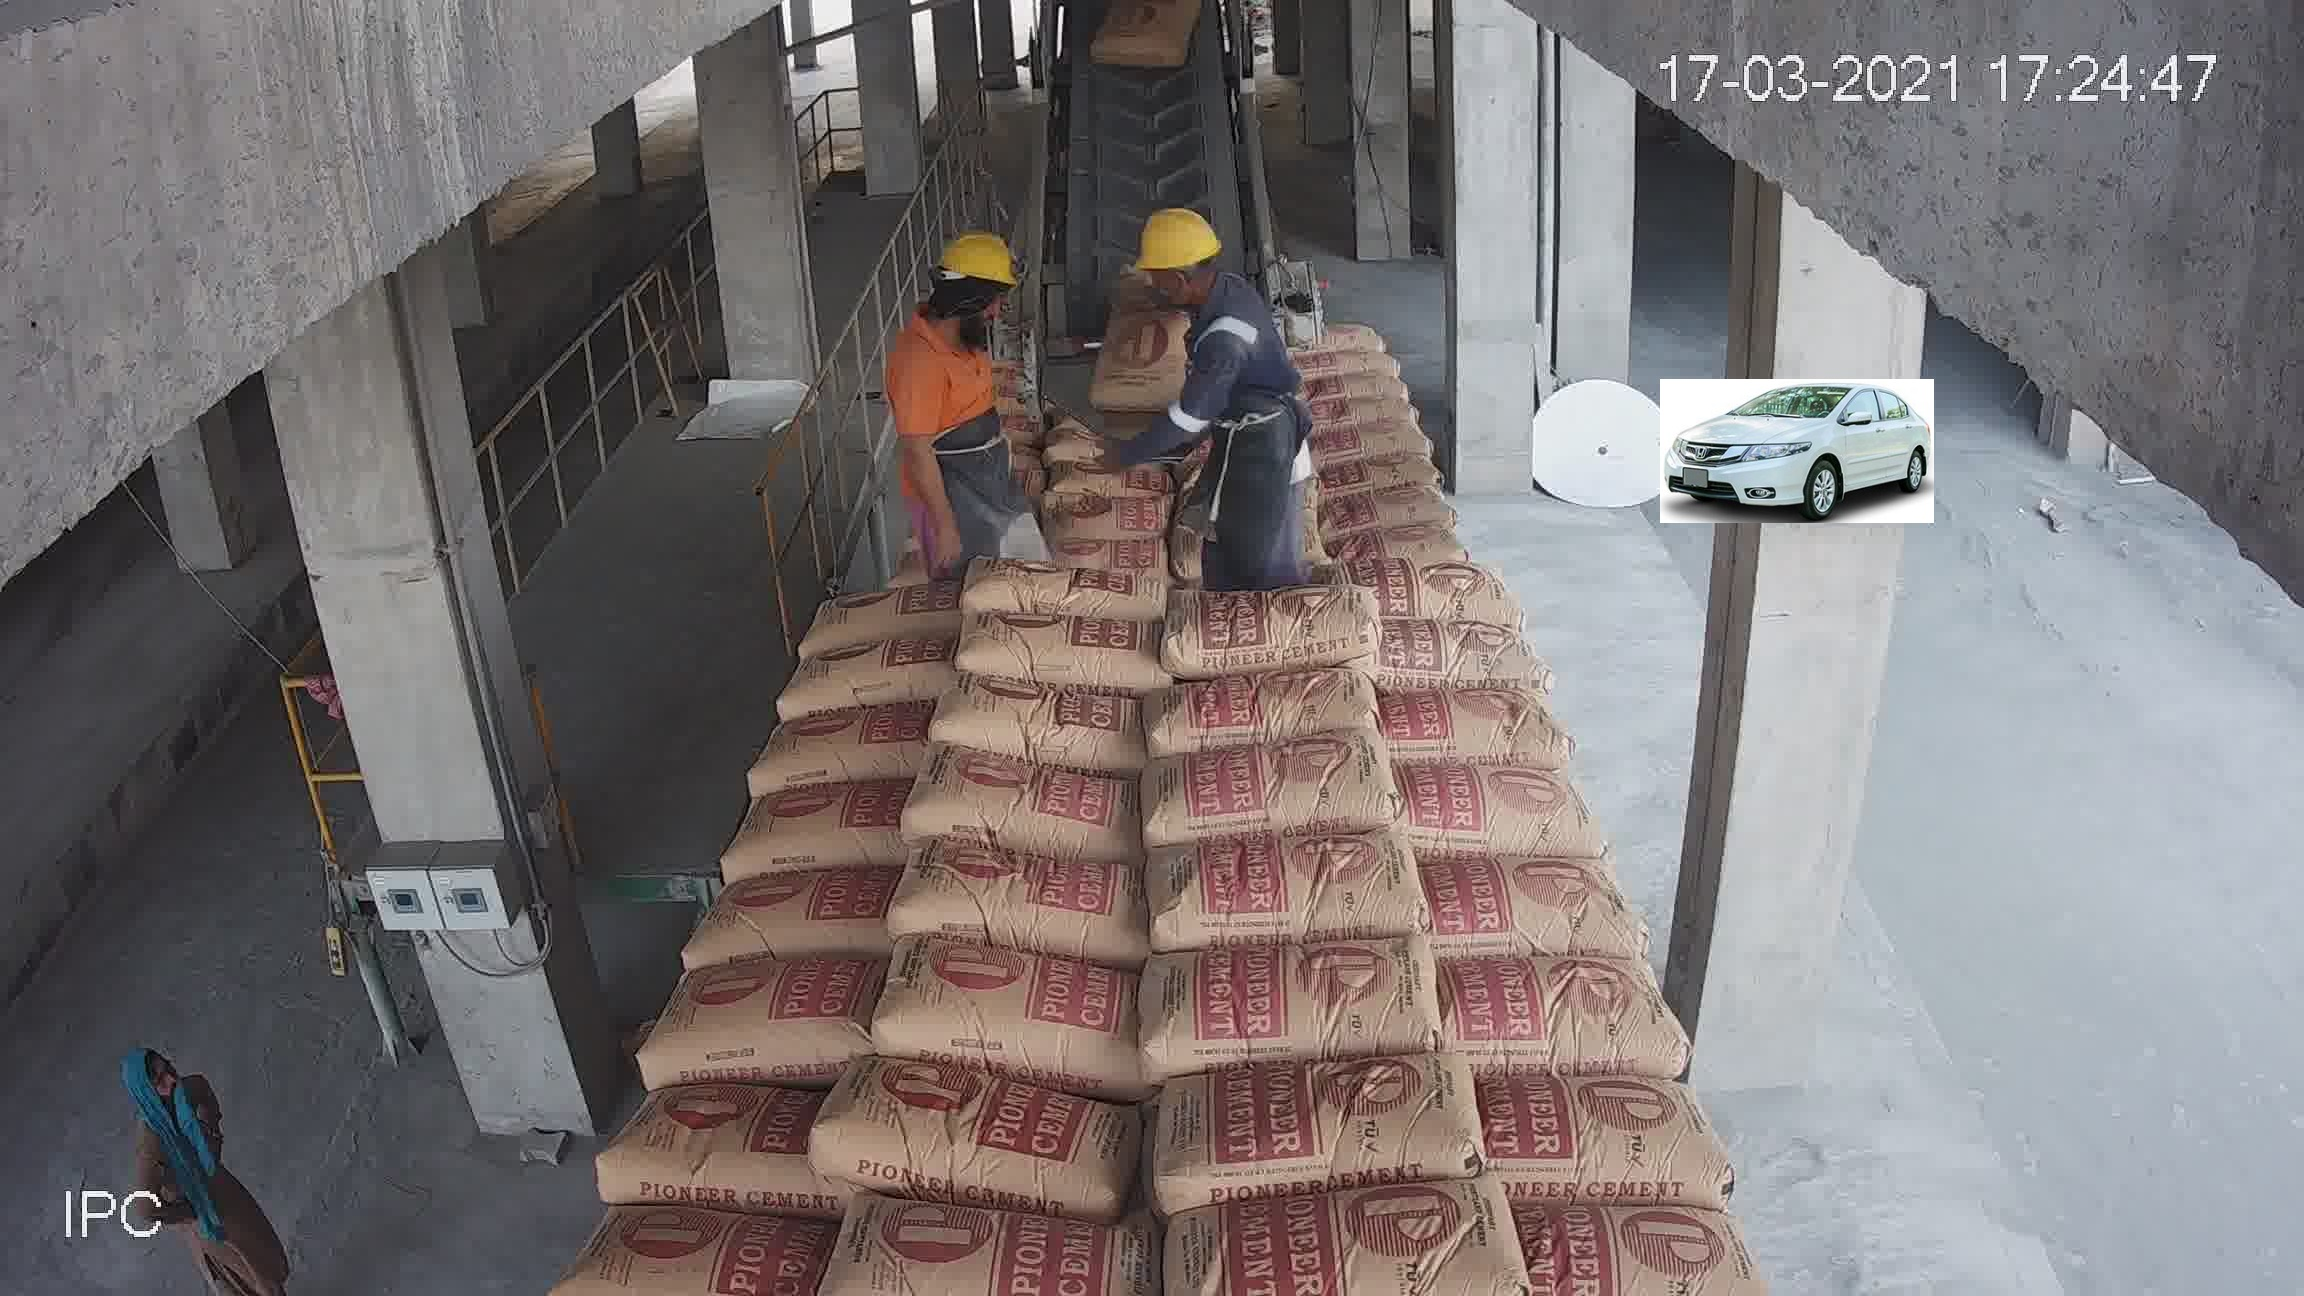bag: (1060, 2, 1253, 271), (1101, 38, 1204, 123)
bag_h: (1146, 1022, 1506, 1207), (1150, 1166, 1533, 1296), (847, 926, 1158, 1081), (820, 1065, 1184, 1196), (1135, 934, 1449, 1068), (570, 1082, 840, 1228), (1462, 1067, 1715, 1215), (1160, 836, 1435, 968), (1423, 942, 1684, 1081), (623, 957, 862, 1101), (1389, 821, 1635, 959), (1127, 722, 1377, 839), (1124, 578, 1377, 684), (885, 829, 1119, 942), (813, 1203, 1139, 1283), (527, 1215, 845, 1296), (1499, 1201, 1769, 1294), (680, 862, 900, 975), (945, 589, 1177, 695), (897, 752, 1125, 855), (1131, 658, 1367, 756), (940, 646, 1139, 756), (1361, 748, 1582, 839), (726, 777, 907, 878), (748, 707, 929, 804), (1154, 530, 1343, 614), (1367, 685, 1563, 753), (976, 548, 1165, 616), (1158, 483, 1328, 555), (1160, 408, 1336, 478), (782, 638, 945, 712), (809, 524, 975, 597), (1366, 619, 1551, 684), (786, 573, 956, 642), (1377, 554, 1527, 623), (1128, 453, 1298, 514), (1340, 508, 1513, 567), (832, 481, 984, 548), (980, 462, 1143, 519), (999, 419, 1157, 478), (978, 513, 1149, 567), (847, 445, 1003, 503), (1340, 473, 1495, 525), (1347, 423, 1465, 475), (942, 377, 1059, 426), (929, 400, 1029, 454), (954, 358, 1049, 389), (967, 331, 1049, 367)
